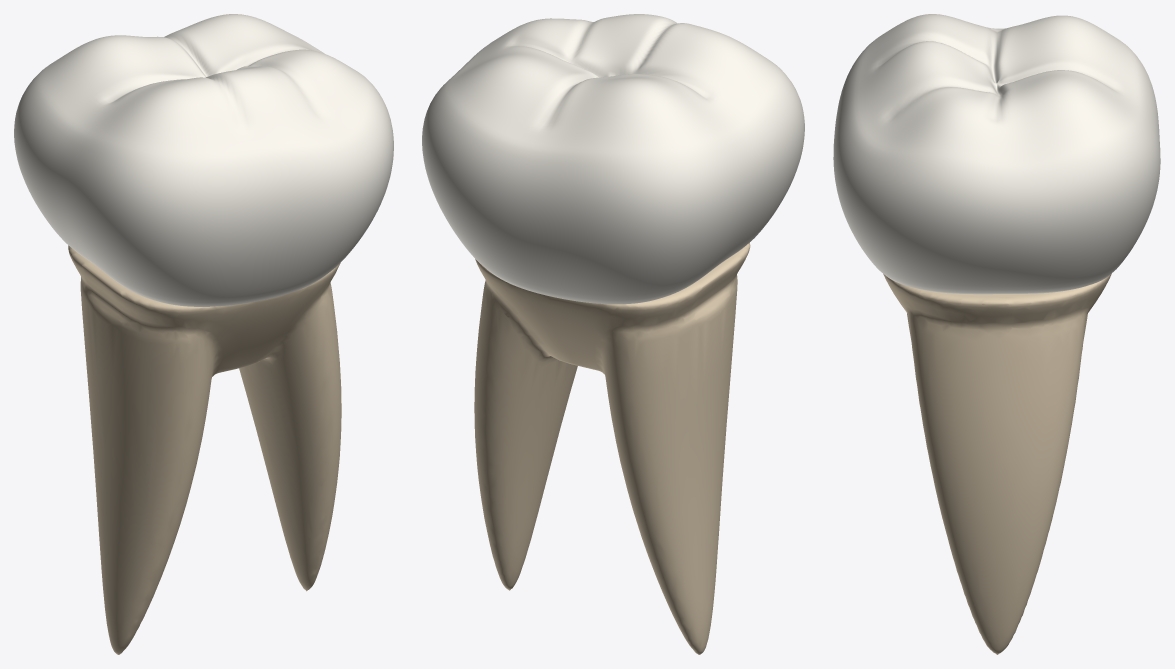
The model's file is molar_inf.glb.
3 views of the same model, side by side, from view 1: azimuth 30°, elevation 25°; view 2: azimuth 150°, elevation 25°; view 3: azimuth 270°, elevation 25° (orthographic). The views are drawn at different scales.
Visible parts, largest first — view 1: Corona, Raices; view 2: Corona, Raices; view 3: Corona, Raices.
Part boxes in pixels (box(x1,y1,x2,y2)): Corona: box(14, 14, 393, 306); Raices: box(68, 245, 341, 654); Corona: box(422, 14, 804, 304); Raices: box(474, 242, 750, 654); Corona: box(833, 14, 1160, 294); Raices: box(883, 273, 1111, 654).
Bounding box in the file's own units: 0.0114 × 0.0205 × 0.0106.
